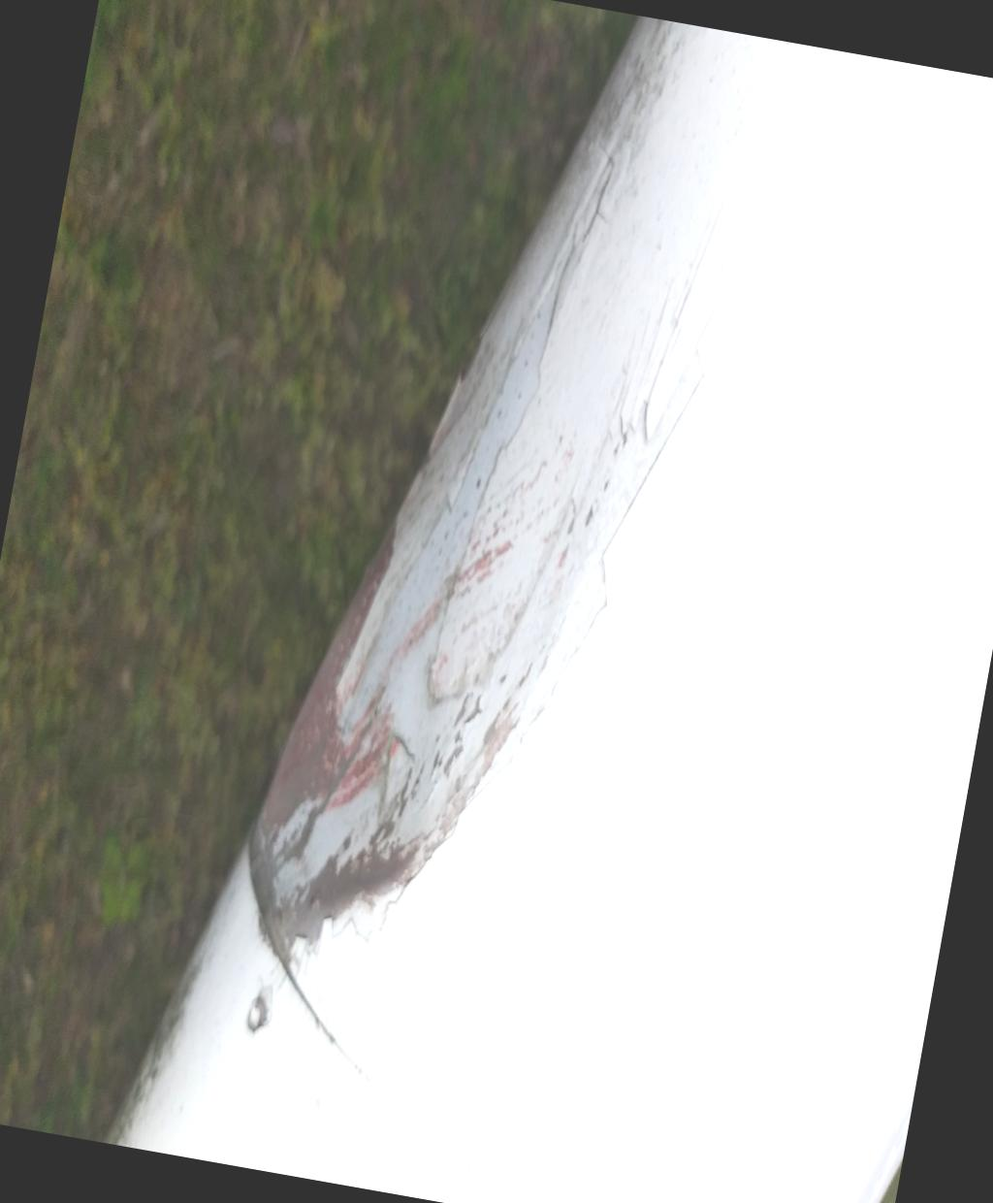corrosion: (561, 15, 947, 463)
